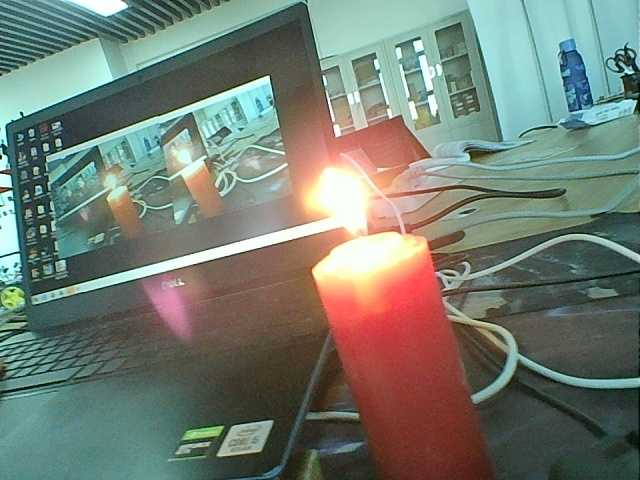candle: (314, 254, 501, 480), (174, 170, 231, 215), (103, 187, 149, 235)
fire: (298, 157, 411, 263), (169, 142, 195, 170), (99, 172, 125, 193)
